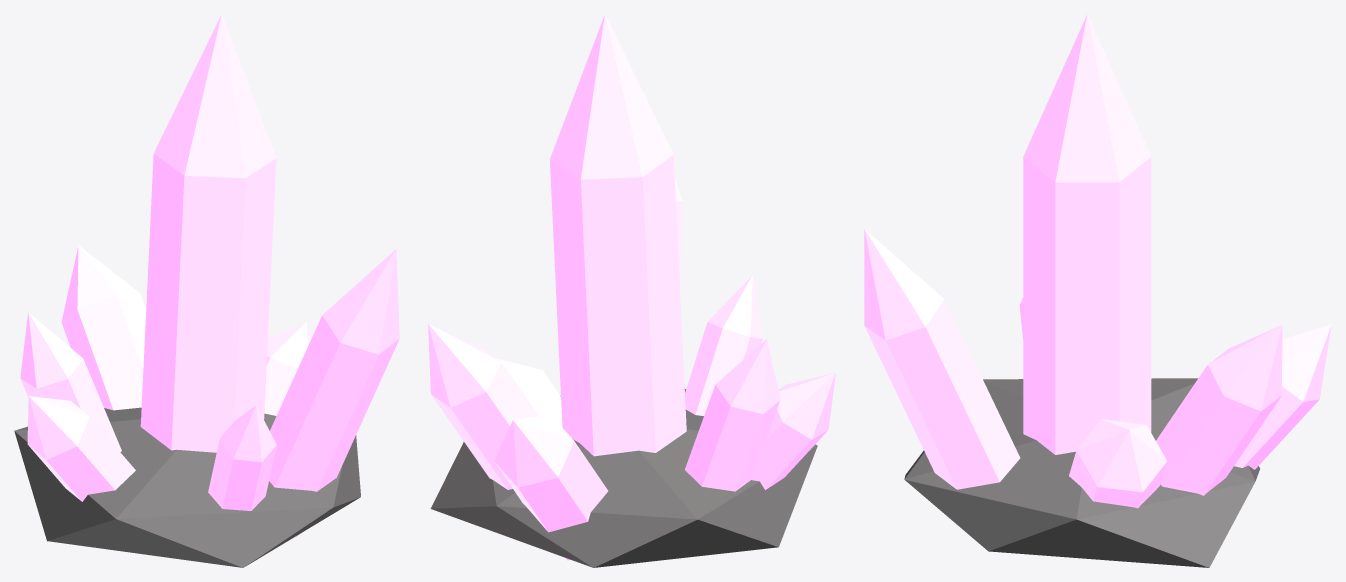
File: SM_Crystals_Purple.glb
The picture shows the model from 3 angles, left to right: view 1: azimuth 30°, elevation 25°; view 2: azimuth 150°, elevation 25°; view 3: azimuth 270°, elevation 25°; orthographic projection. The views are drawn at different scales.
Visible parts, largest first — view 1: SM_Crystals_Purple; view 2: SM_Crystals_Purple; view 3: SM_Crystals_Purple.
Part boxes in pixels (<box>): SM_Crystals_Purple: <box>14,14,399,567</box>; SM_Crystals_Purple: <box>428,14,835,567</box>; SM_Crystals_Purple: <box>864,14,1331,567</box>.
Bounding box in the file's own units: 0.8259 × 1.22 × 0.9478.
